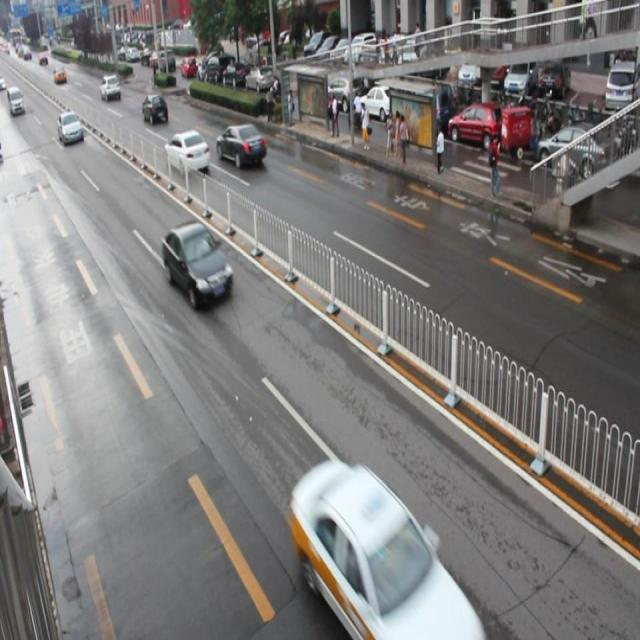car: (289, 458, 473, 640), (162, 220, 233, 309), (217, 122, 268, 170), (164, 130, 210, 174), (142, 92, 169, 126)
